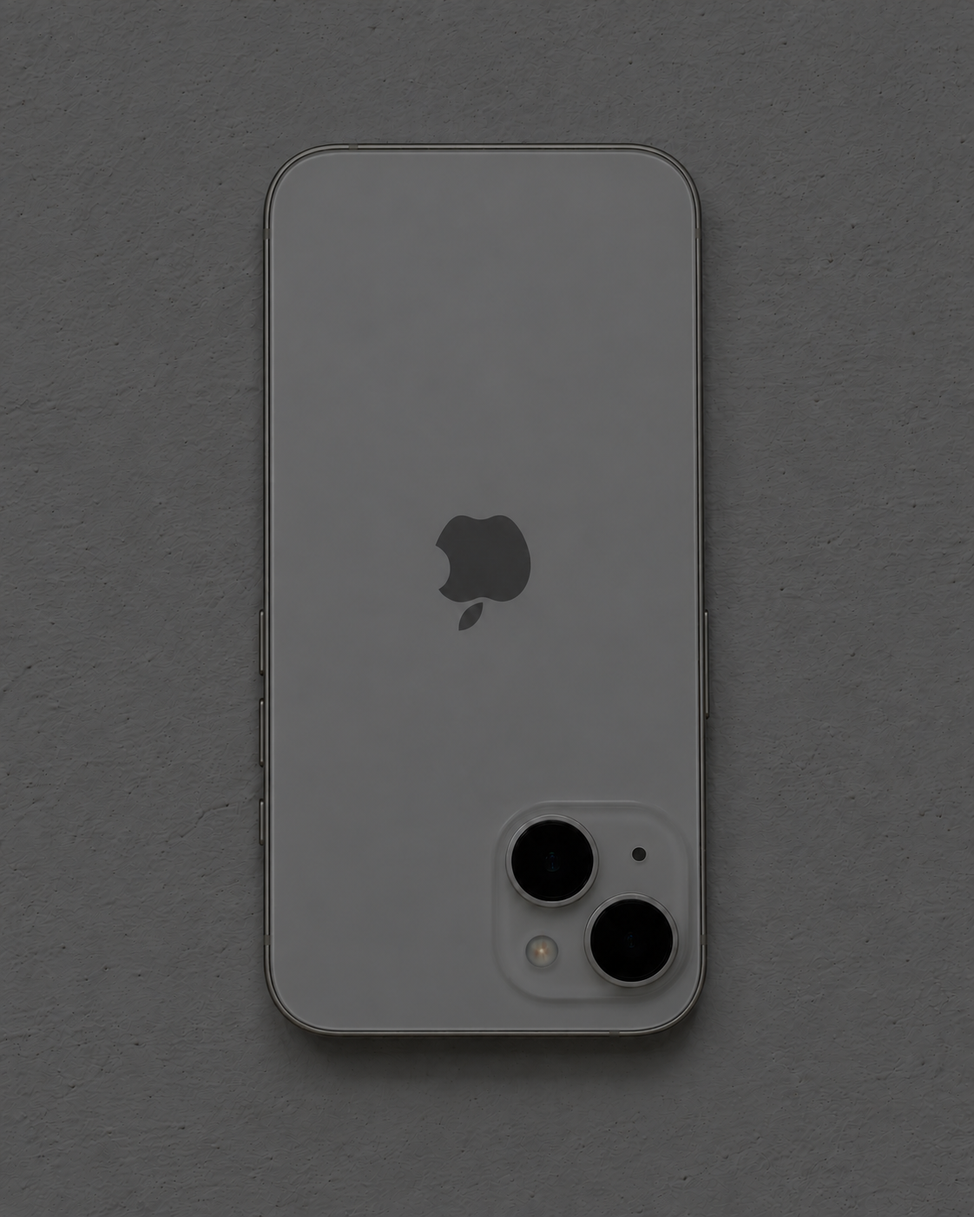iphone_14_white: (169, 104, 803, 1083), (490, 812, 686, 1004)
